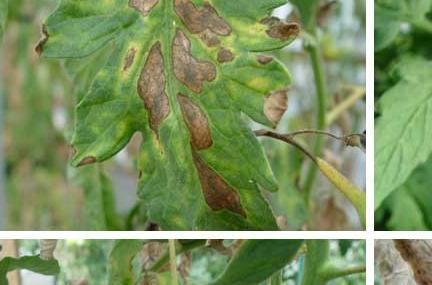Tomato leaf bacterial spot: (52, 0, 296, 220)
